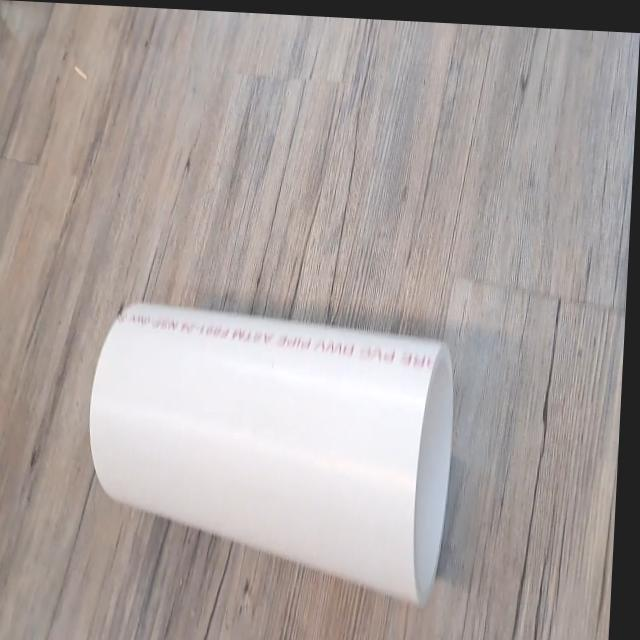CORAL: (71, 289, 463, 619)
